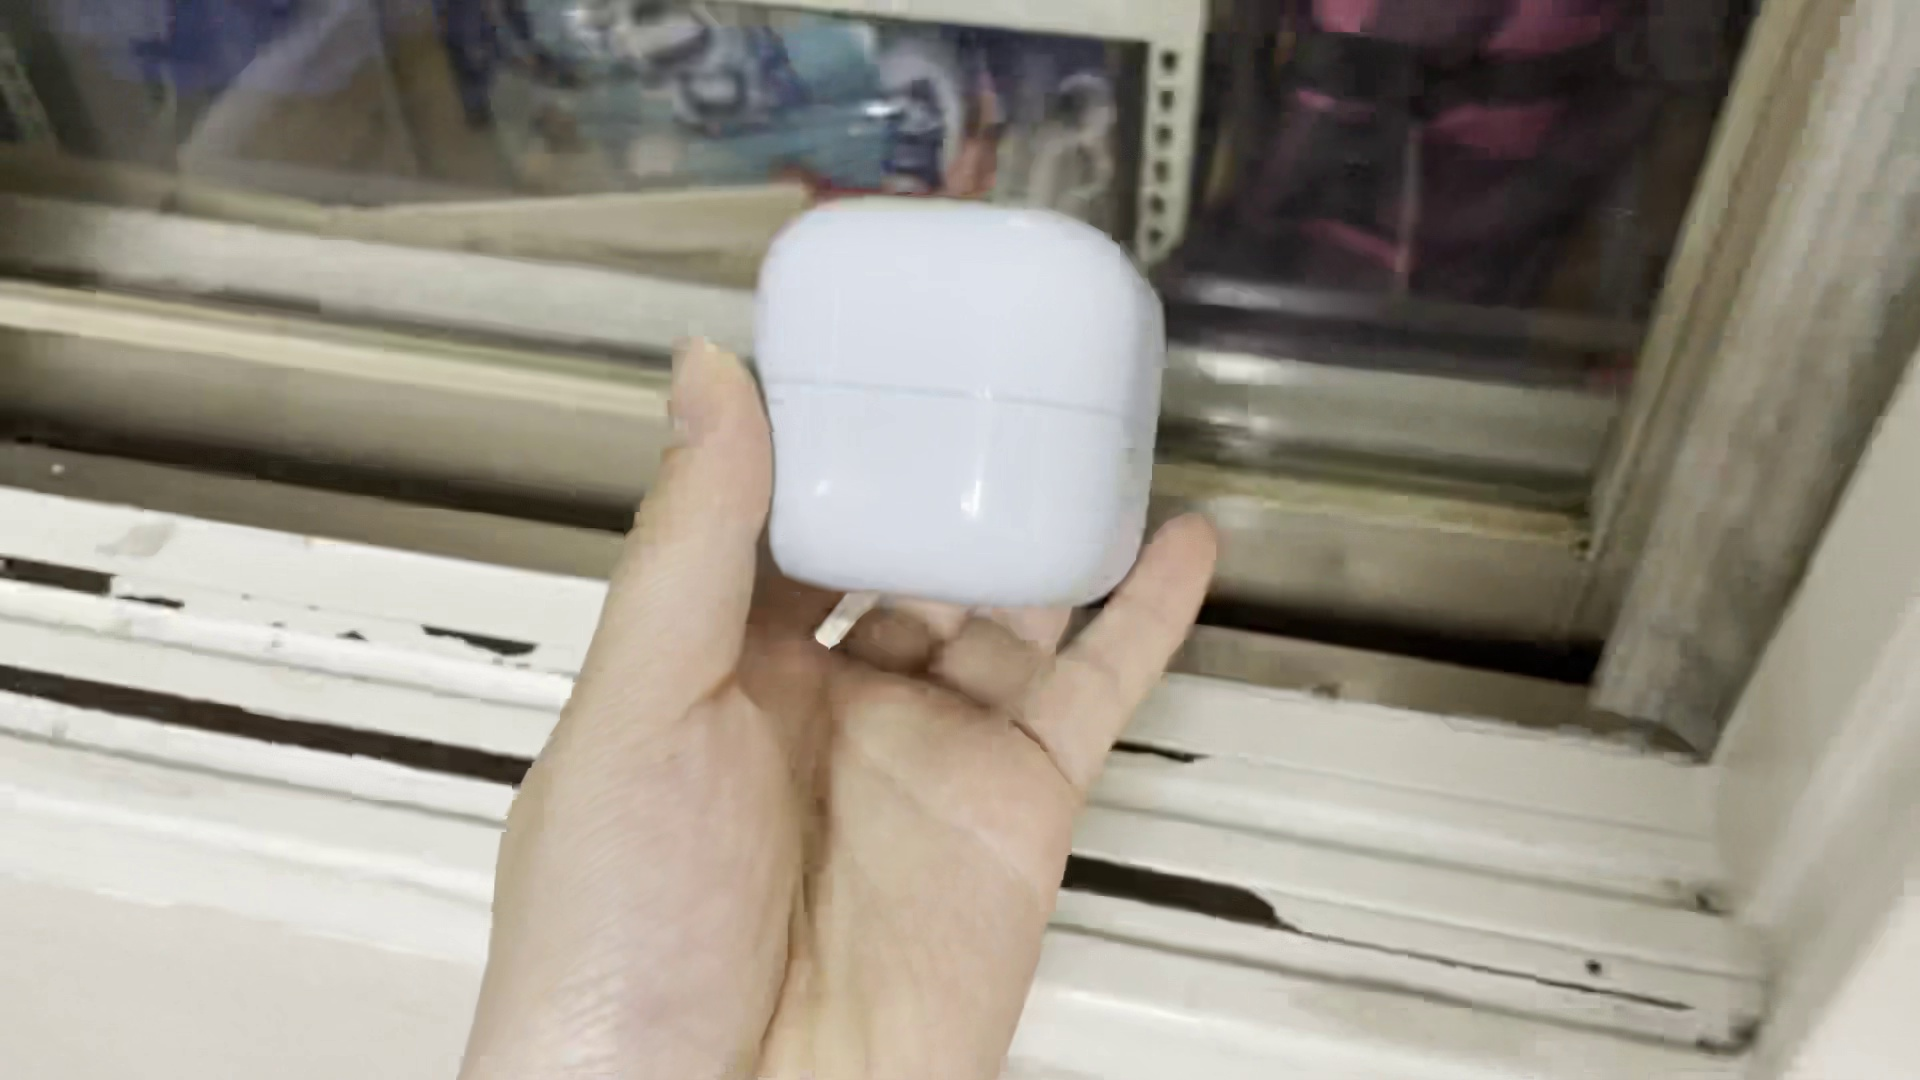cream: (754, 194, 1154, 607)
